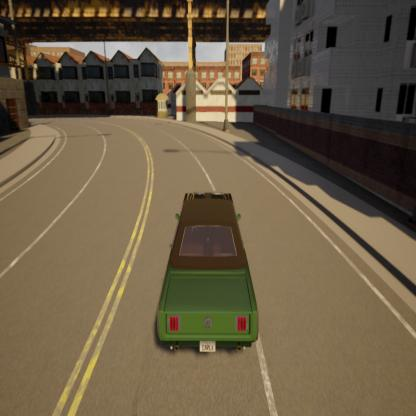Cars: (152, 181, 262, 363)
